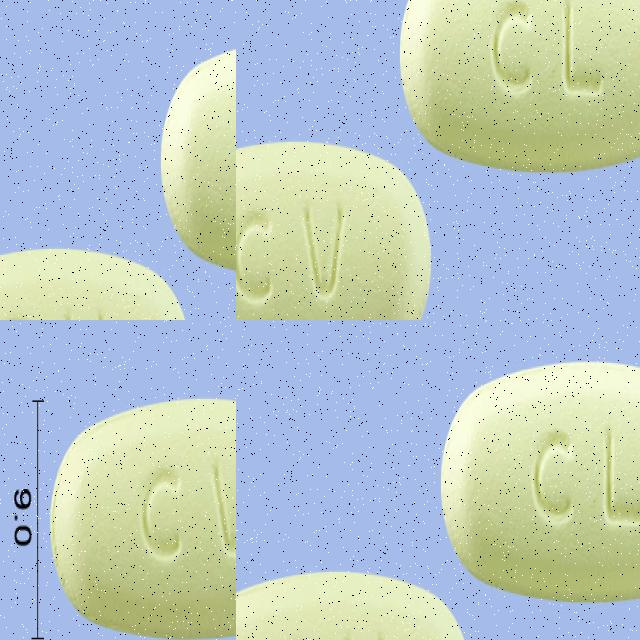Cephamethyl Tab: (0, 205, 192, 320), (171, 26, 236, 317)
Ciropan: (47, 320, 236, 640)
Clithro: (236, 192, 492, 320)
Cllaricin: (439, 355, 640, 600), (236, 565, 477, 640)
